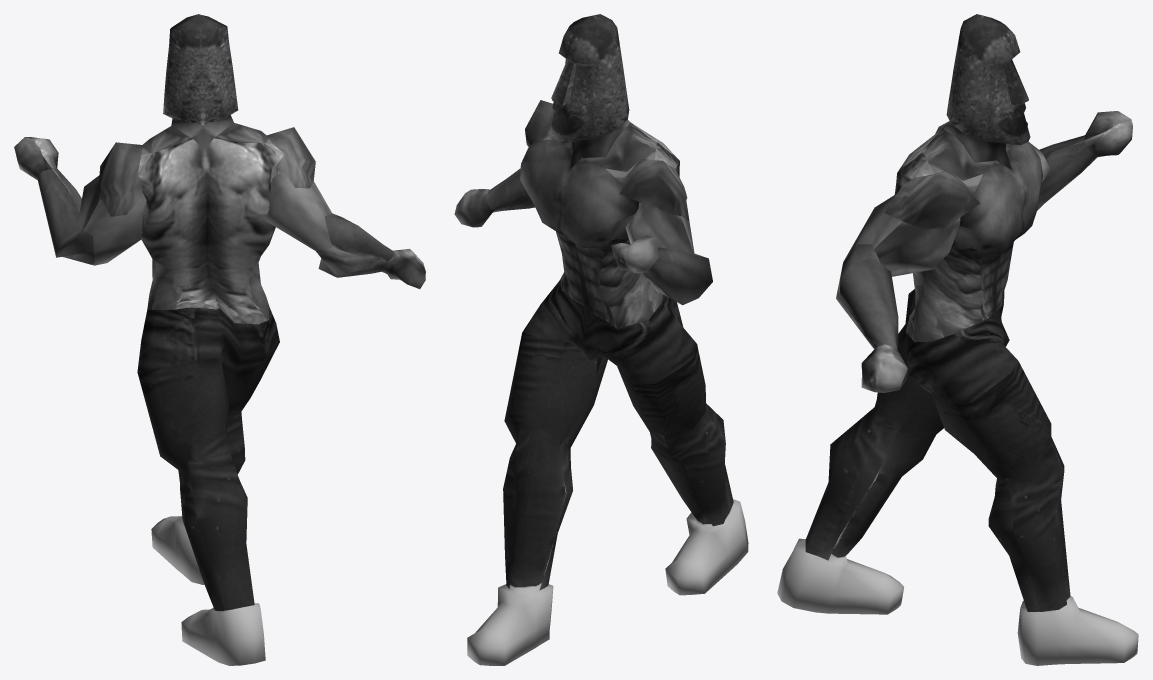
File: brug_pose.obj
3 renders of one model, left to right at view 1: azimuth 30°, elevation 25°; view 2: azimuth 150°, elevation 25°; view 3: azimuth 270°, elevation 25°, orthographic. The views are drawn at different scales.
Visible parts, largest first — view 1: Brug_Cube; view 2: Brug_Cube; view 3: Brug_Cube.
Boxes of the visible parts, x1,y1,x2,y2 form: Brug_Cube: (14,14,425,665); Brug_Cube: (454,14,748,665); Brug_Cube: (777,14,1138,665).
Bounding box in the file's own units: 1.28 × 2.36 × 1.24.
Materials: 1 (1 with a texture image).
